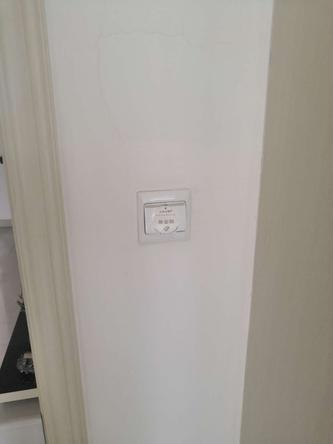switch: (141, 196, 192, 241)
